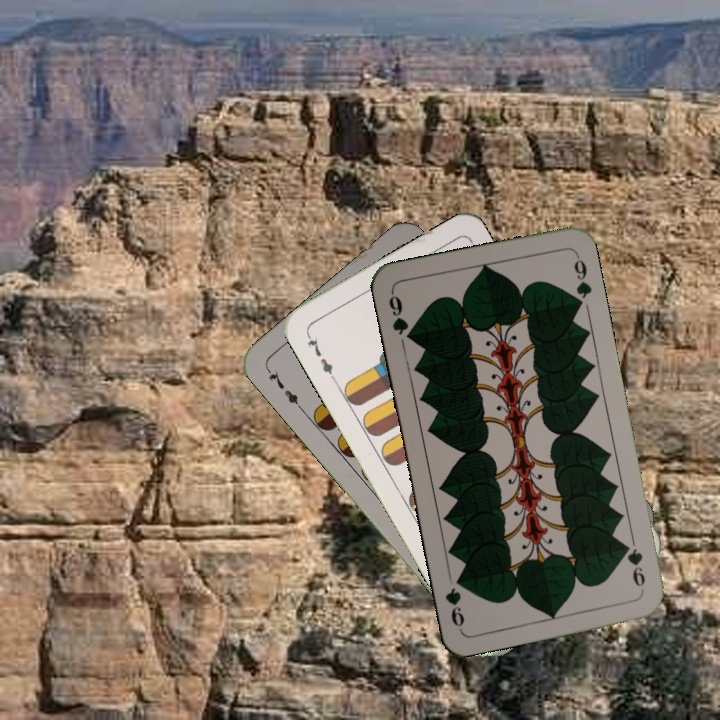E7: (262, 364, 306, 413), (302, 328, 338, 383)
G9: (384, 288, 417, 344), (620, 539, 648, 590)
